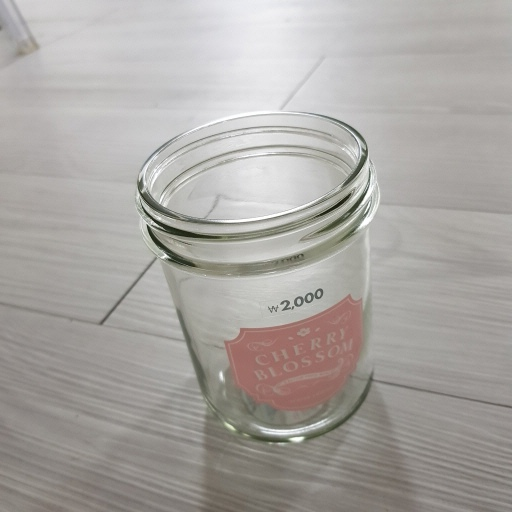Glass_5: (131, 110, 386, 444)
